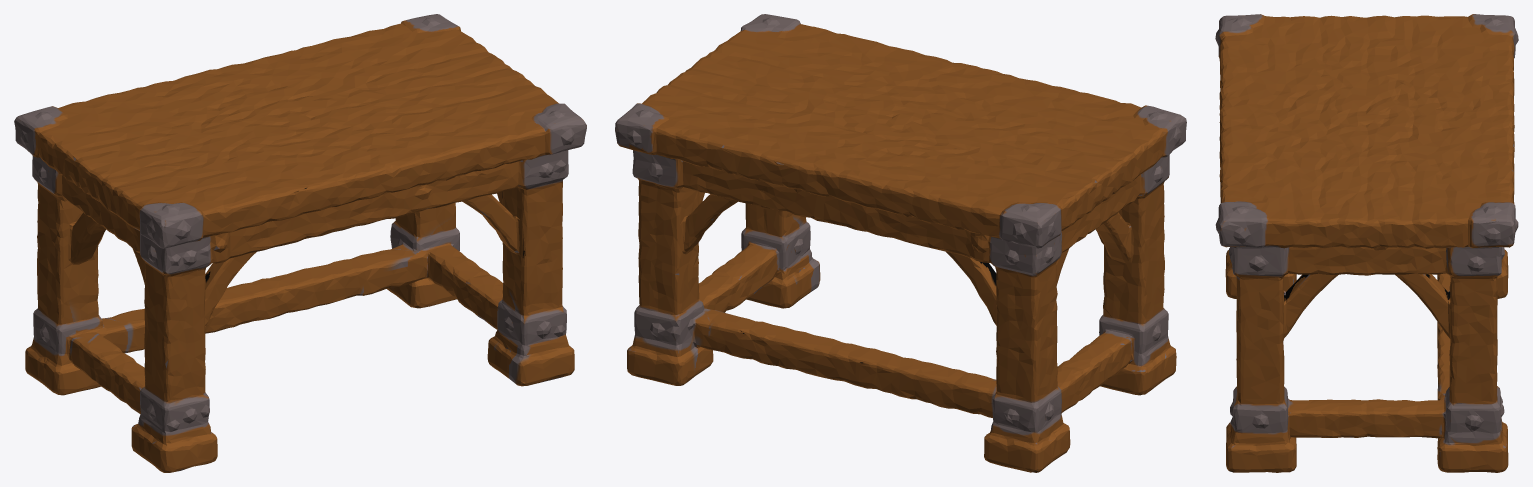
The model's file is mesa.glb.
The picture shows the model from 3 angles, left to right: view 1: azimuth 30°, elevation 25°; view 2: azimuth 150°, elevation 25°; view 3: azimuth 270°, elevation 25°; orthographic projection.
Visible parts, largest first — view 1: tmpw_uukwu1.ply; view 2: tmpw_uukwu1.ply; view 3: tmpw_uukwu1.ply.
Part boxes in pixels (box(x1,y1,x2,y2)): tmpw_uukwu1.ply: box(14, 14, 586, 472); tmpw_uukwu1.ply: box(615, 14, 1186, 472); tmpw_uukwu1.ply: box(1215, 14, 1518, 472).
Bounding box in the file's own units: 1.97 × 1.15 × 1.21.
Materials: 1 (1 with a texture image).
